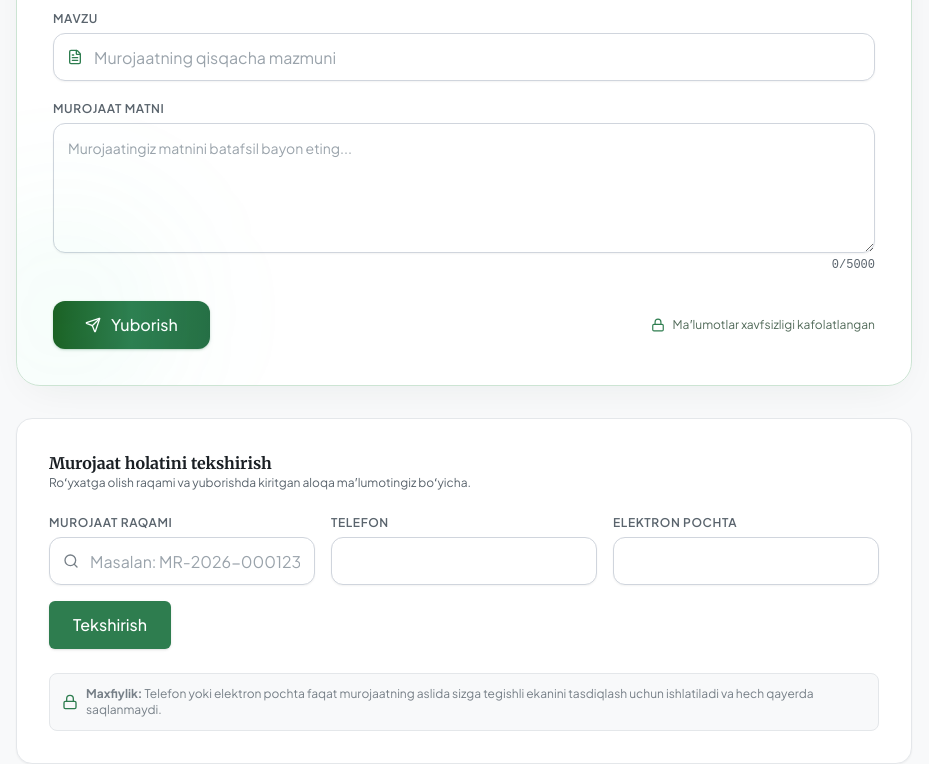
Test: AppealCheckPage › renders an error alert, not a crash, on a failed check
(page scrolled)
In the field with placeholder "Masalan: MR-2026-000123": (182, 561) 49,537 -> 315,585, type "MR-2026-000123"
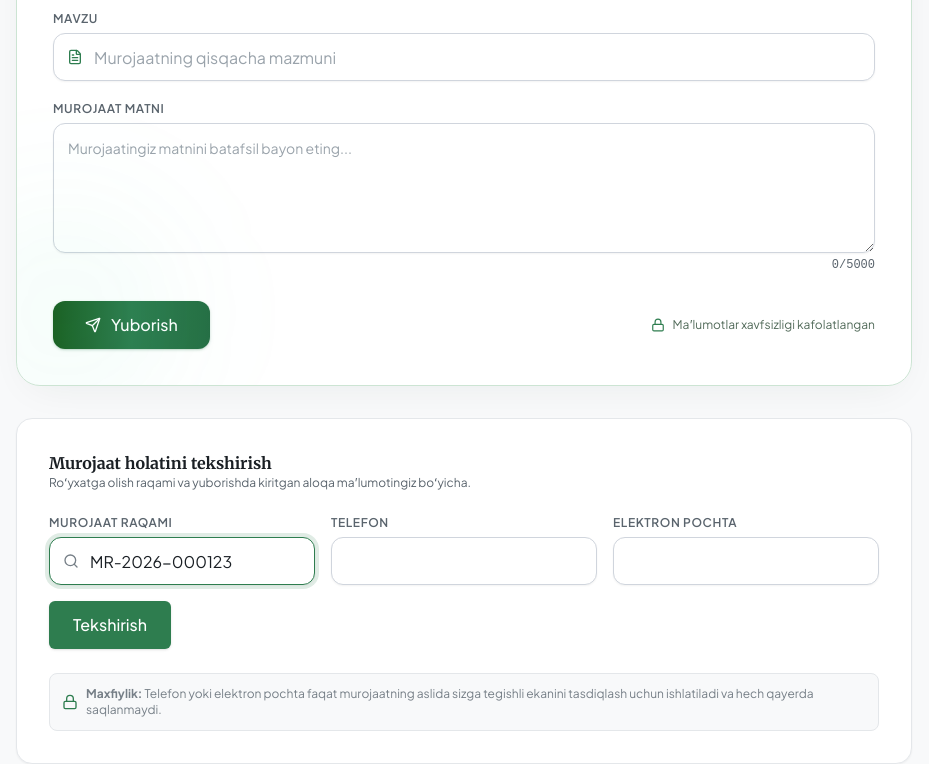
In the field with id "appeal-email": (746, 561) 613,537 -> 879,585, type "test@example.uz"
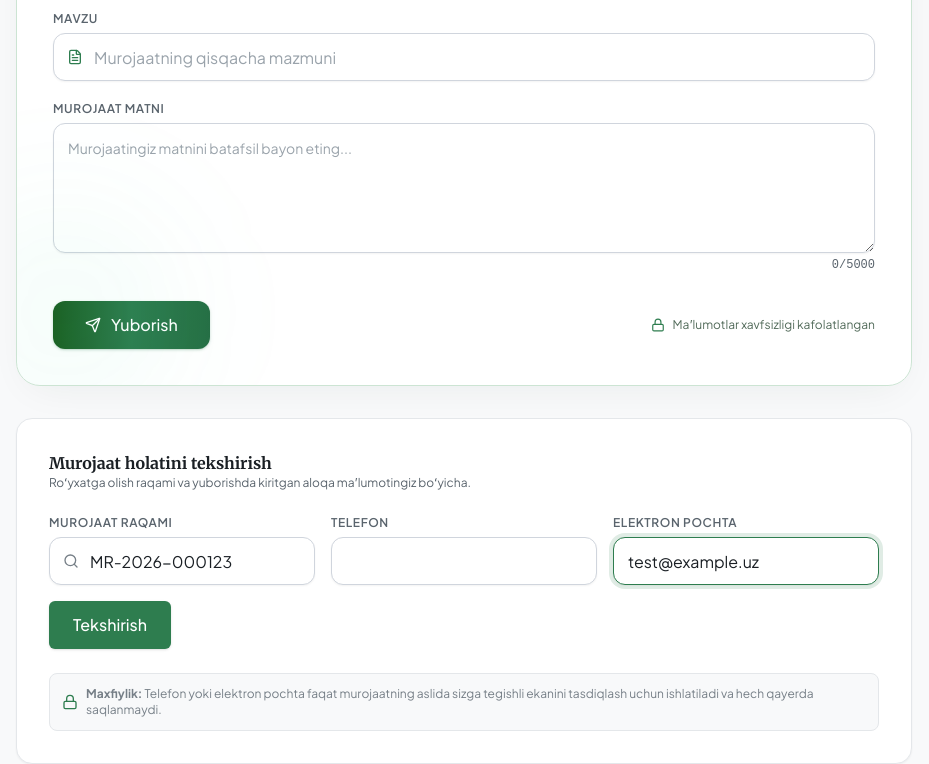
Click the button named "Tekshirish" below "Murojaat raqami": (110, 625) 49,601 -> 171,649
(page scrolled)
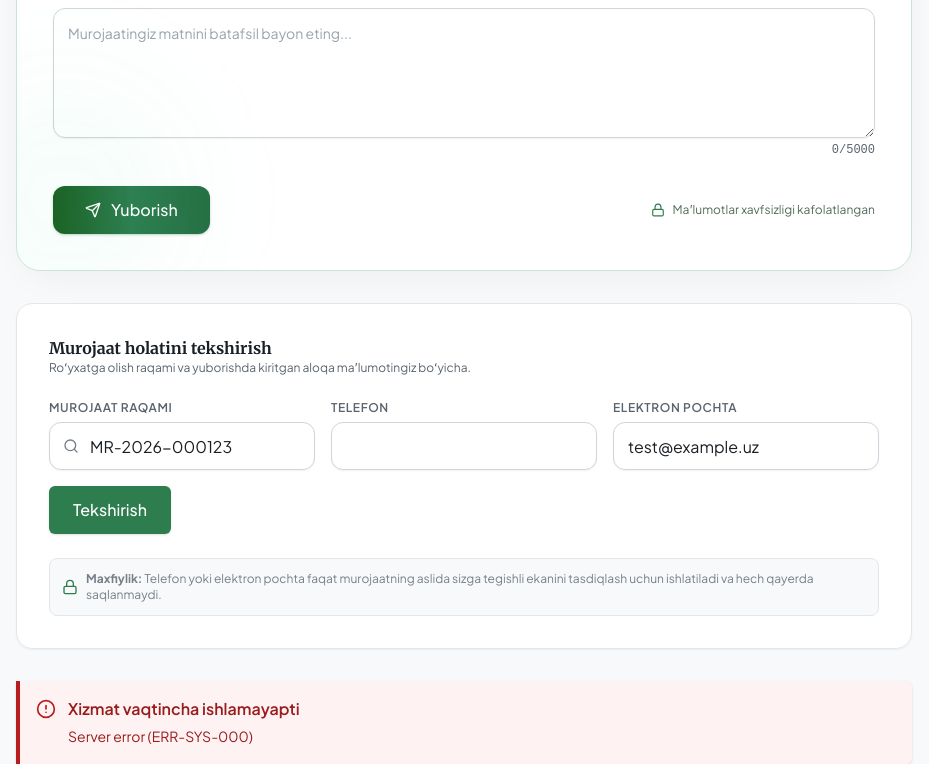
Expected: the message "Xizmat vaqtincha ishlamayapti Server error (ERR-SYS-000)" is shown, 16,681 -> 912,763
